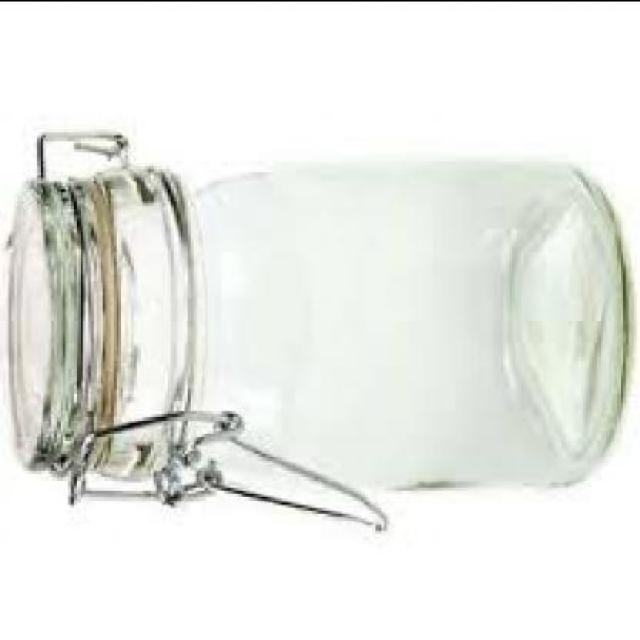GLASS: (3, 157, 626, 486)
METAL: (165, 412, 384, 523), (31, 128, 126, 174)
